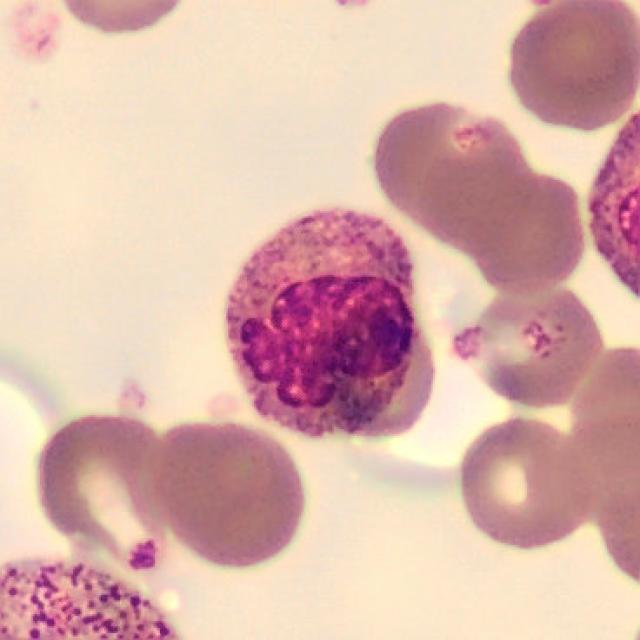Neutrofilo segmentado: (228, 209, 426, 434)
